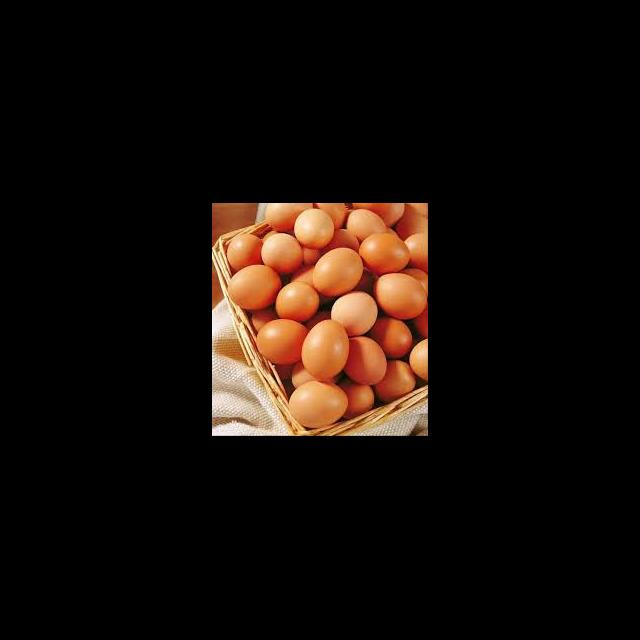egg: (220, 204, 428, 338), (269, 211, 428, 356), (254, 251, 328, 361), (286, 318, 355, 424), (287, 355, 372, 420), (232, 243, 306, 303), (364, 332, 423, 394), (257, 318, 308, 365), (228, 265, 280, 311), (261, 233, 304, 275), (276, 281, 319, 322), (294, 209, 335, 250), (227, 233, 264, 273), (270, 345, 291, 356)
